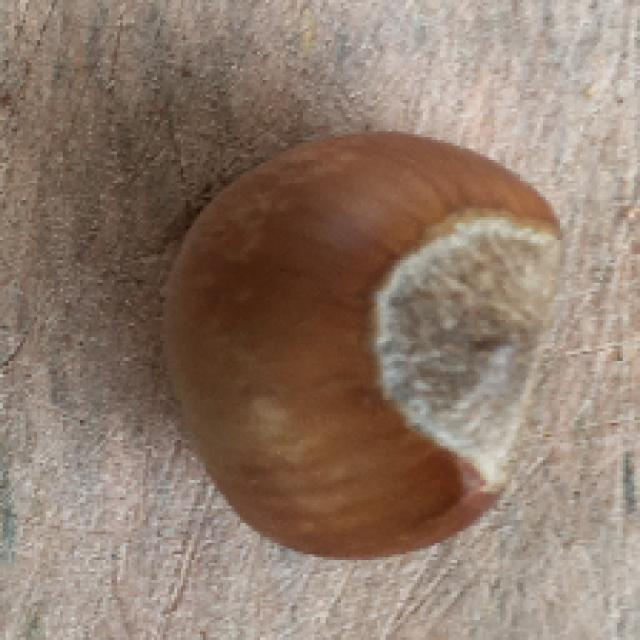damagedHazelnut: (146, 123, 564, 569)
